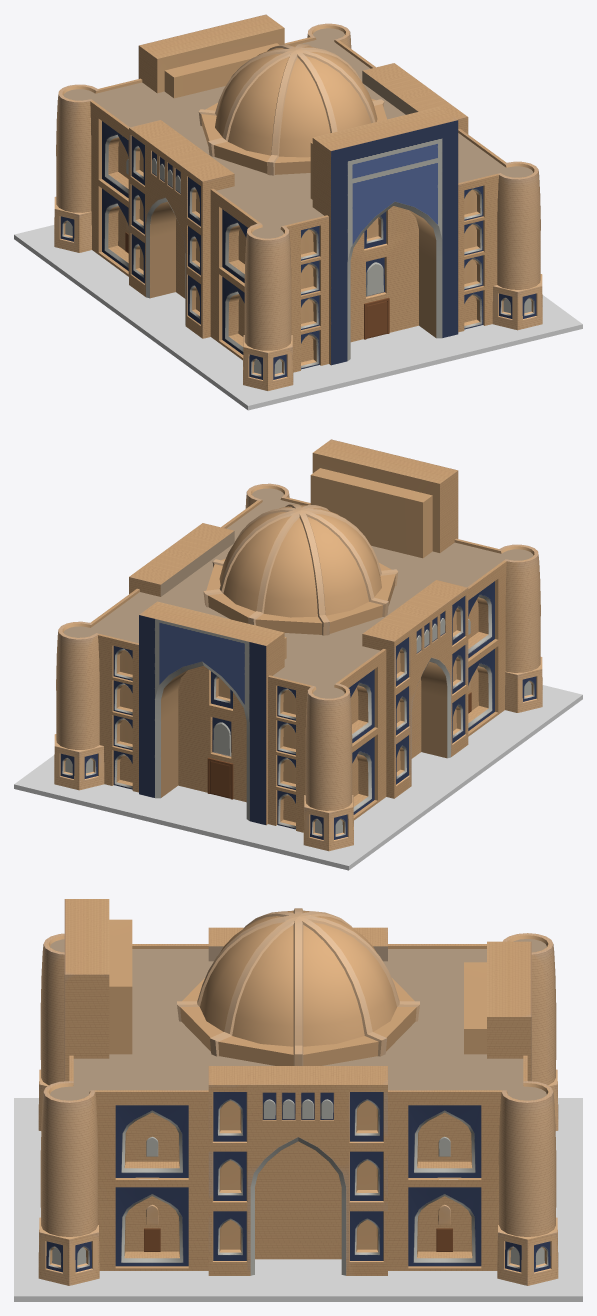
Rendered from Lyabi Hauz.glb.
3 views of the same model, one above another, from view 1: azimuth 30°, elevation 25°; view 2: azimuth 150°, elevation 25°; view 3: azimuth 270°, elevation 25° (orthographic). The views are drawn at different scales.
Parts seen in each view (by area): view 1: polySurface431, polySurface390, pCube34, pCylinder2, polySurface430, polySurface391, polySurface432, Miri_Arab_Mosque_F6, polySurface440, polySurface384, polySurface437, polySurface438 (+6 smaller); view 2: polySurface431, polySurface390, pCube34, pCylinder2, polySurface430, polySurface391, polySurface432, Miri_Arab_Mosque_F6, polySurface384, polySurface440, Miri_Arab_Mosque_F7, polySurface439 (+6 smaller); view 3: polySurface431, polySurface384, pCube34, pCylinder2, polySurface390, Miri_Arab_Mosque_F7, polySurface391, Miri_Arab_Mosque_F6, polySurface440, polySurface377, polySurface397, polySurface398 (+9 smaller).
Boxes of the visible parts, left/top/right/bottom form: polySurface431: left=54, top=23, right=542, bottom=390; polySurface390: left=138, top=46, right=458, bottom=365; pCube34: left=14, top=225, right=582, bottom=410; pCylinder2: left=201, top=45, right=386, bottom=174; polySurface430: left=129, top=120, right=234, bottom=338; polySurface391: left=157, top=28, right=312, bottom=199; polySurface432: left=131, top=136, right=200, bottom=324; Miri_Arab_Mosque_F6: left=158, top=86, right=312, bottom=206; polySurface440: left=139, top=14, right=283, bottom=58; polySurface384: left=363, top=63, right=468, bottom=134; polySurface437: left=267, top=50, right=297, bottom=175; polySurface438: left=208, top=50, right=295, bottom=156; polySurface431: left=54, top=483, right=542, bottom=851; polySurface390: left=139, top=439, right=458, bottom=825; pCube34: left=14, top=685, right=582, bottom=870; pCylinder2: left=206, top=505, right=395, bottom=634; polySurface430: left=362, top=580, right=468, bottom=798; polySurface391: left=284, top=453, right=439, bottom=659; polySurface432: left=396, top=596, right=465, bottom=784; Miri_Arab_Mosque_F6: left=284, top=545, right=439, bottom=666; polySurface384: left=129, top=523, right=234, bottom=596; polySurface440: left=139, top=601, right=284, bottom=645; Miri_Arab_Mosque_F7: left=161, top=544, right=233, bottom=618; polySurface439: left=299, top=510, right=329, bottom=635; polySurface431: left=38, top=933, right=558, bottom=1285; polySurface384: left=208, top=1066, right=387, bottom=1275; pCube34: left=14, top=1098, right=582, bottom=1301; pCylinder2: left=180, top=910, right=416, bottom=1065; polySurface390: left=64, top=899, right=531, bottom=1081; Miri_Arab_Mosque_F7: left=109, top=1019, right=486, bottom=1065; polySurface391: left=109, top=919, right=486, bottom=1054; Miri_Arab_Mosque_F6: left=132, top=961, right=463, bottom=1019; polySurface440: left=487, top=941, right=531, bottom=1016; polySurface377: left=213, top=1092, right=246, bottom=1141; polySurface397: left=213, top=1151, right=246, bottom=1200; polySurface398: left=213, top=1211, right=246, bottom=1260.
Size of the model in its own units: 0.7728 by 0.5167 by 0.9359.
Materials: 2 (1 with a texture image).
